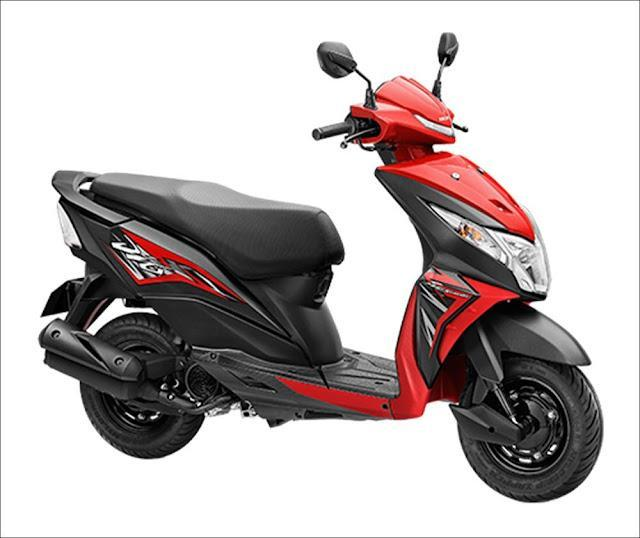motorbike: (39, 32, 603, 503)
